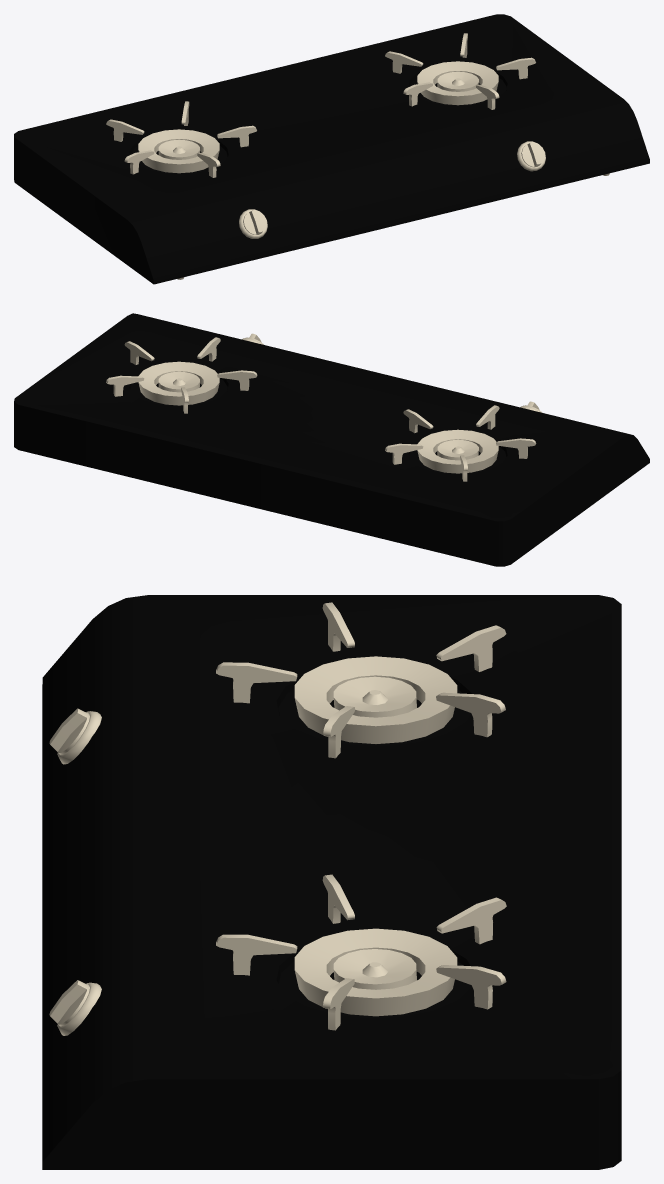
Rendered from Stove_A_Snaps004.FBX.
3 renders of one model, top to bottom at view 1: azimuth 30°, elevation 25°; view 2: azimuth 150°, elevation 25°; view 3: azimuth 270°, elevation 25°, orthographic. The views are drawn at different scales.
Parts seen in each view (by area): view 1: Geometry_Stove_A_LOD00; view 2: Geometry_Stove_A_LOD00; view 3: Geometry_Stove_A_LOD00.
Boxes of the visible parts, box(x1,y1,x2,y2) form: Geometry_Stove_A_LOD00: box(14, 14, 649, 284); Geometry_Stove_A_LOD00: box(14, 313, 649, 566); Geometry_Stove_A_LOD00: box(42, 595, 621, 1169).
Size of what is drawn, in the model's own units: 120 by 16.83 by 60.81.
